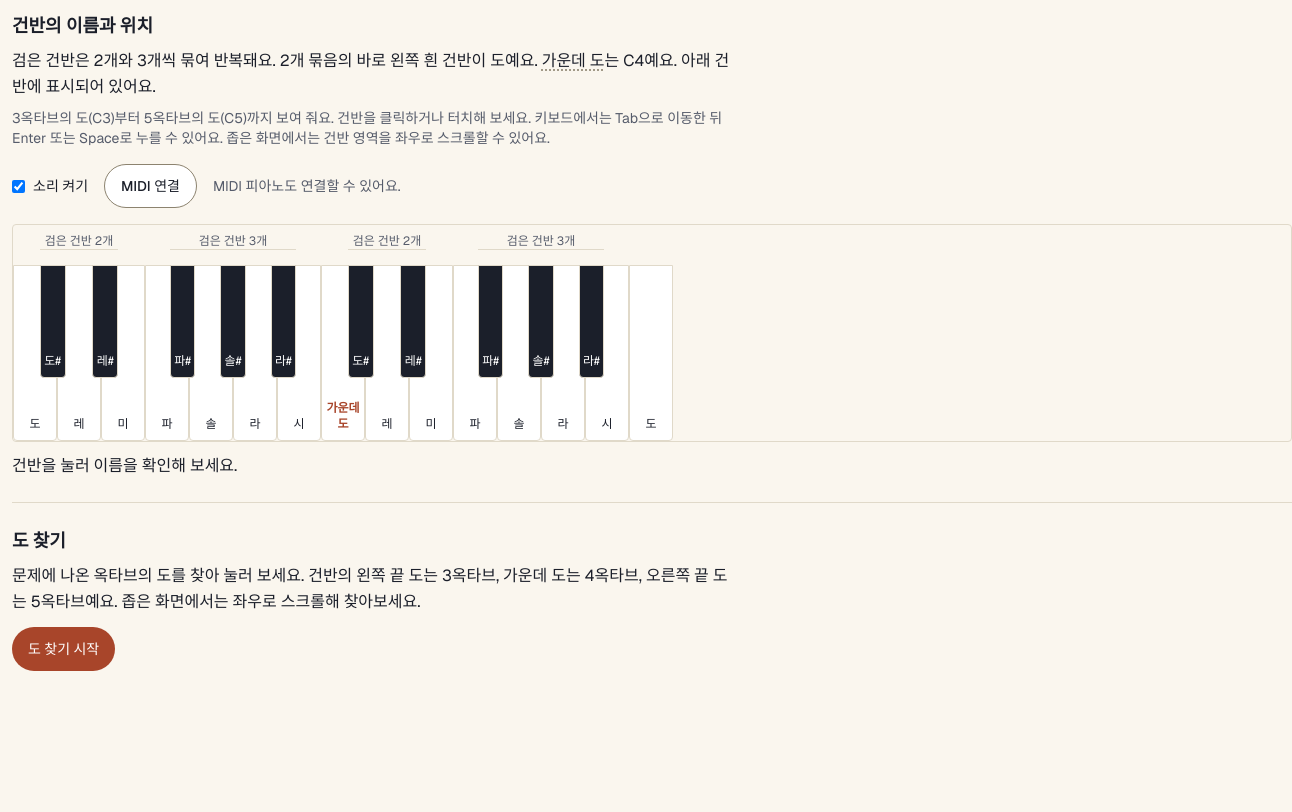
Test: announces pointer presses and renders accessible keys without starting audio on mount
expect the button named "도 샵 (4옥타브)" is shown: met, box [348,265,374,378]
Step 1. Click the button with aria-label "가운데 도 (4옥타브)" → (343, 353), box [321,265,365,441]
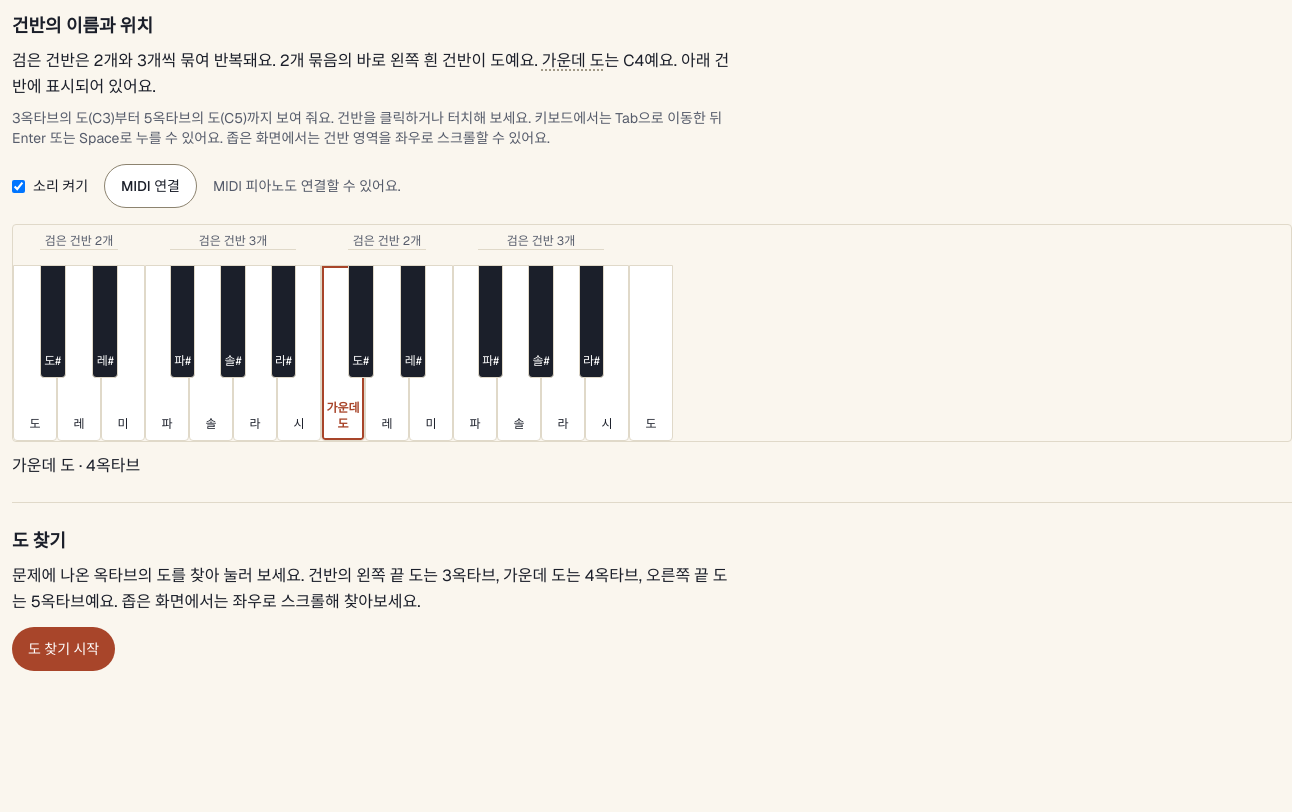
expect the text "검은 건반 2개" is shown 2 times: met, box [40,233,118,250]; [348,233,426,250]
expect the message named "누른 건반" reads "가운데 도 · 4옥타브": met, box [12,455,140,476]
